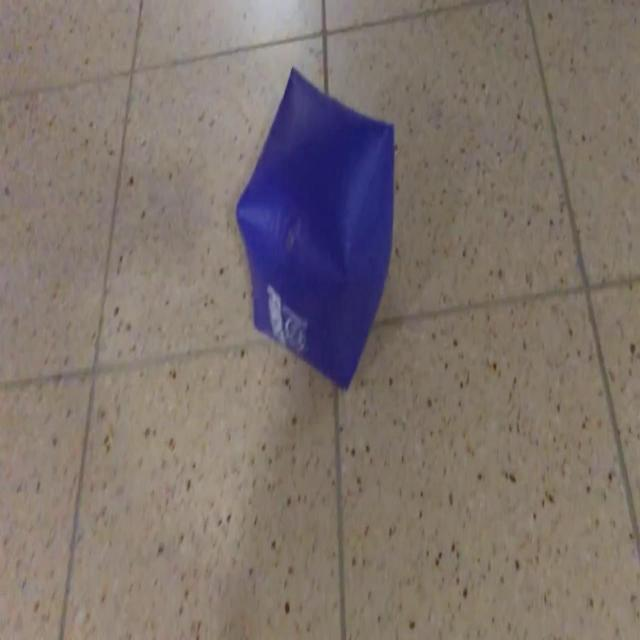frc_cube: (239, 66, 395, 388)
